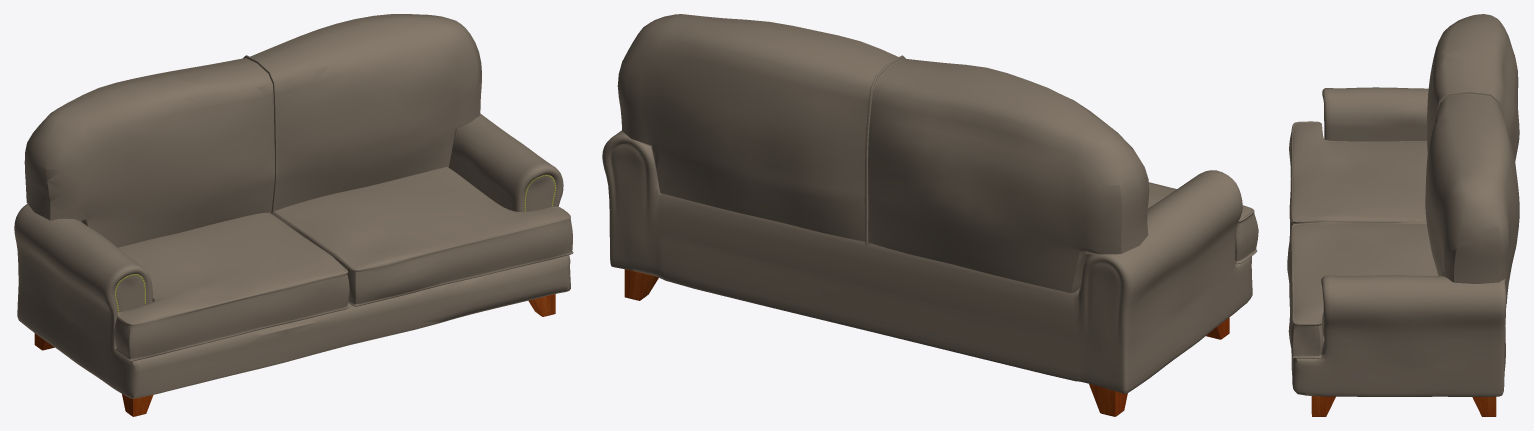
The model's file is sh_scopia_leather_sofa.glb.
The picture shows the model from 3 angles, left to right: view 1: azimuth 30°, elevation 25°; view 2: azimuth 150°, elevation 25°; view 3: azimuth 270°, elevation 25°; orthographic projection. The views are drawn at different scales.
Size of the model in its own units: 1.92 by 1 by 0.903.
Materials: 3 (1 with a texture image).
